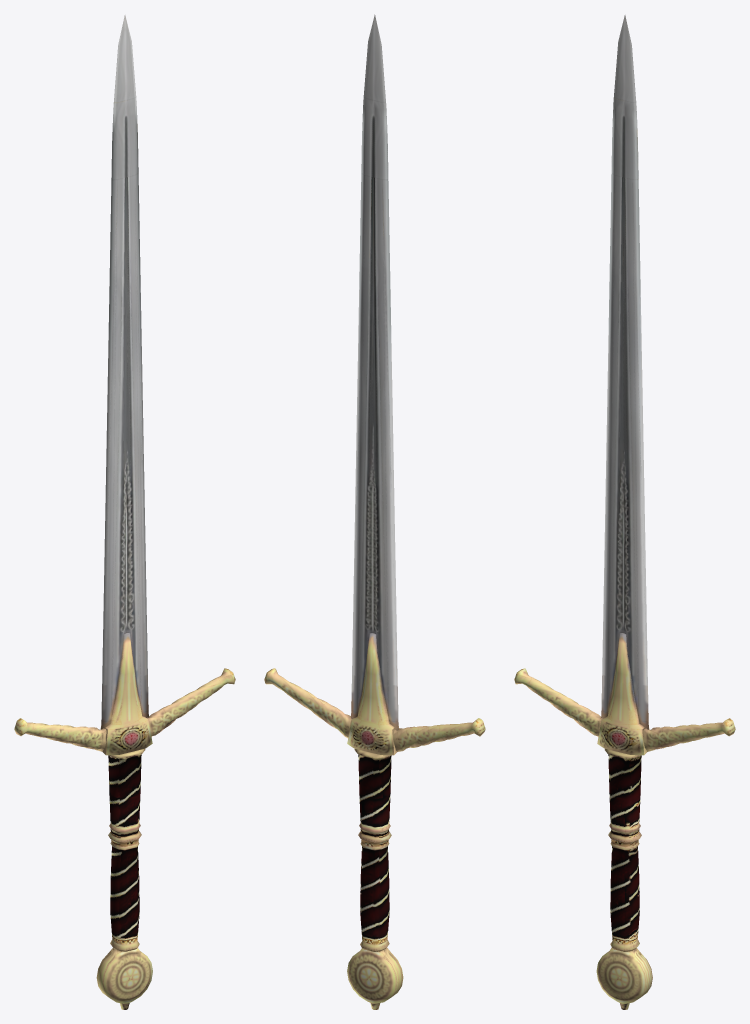
The model's file is w_claymore_t3.glb.
3 renders of one model, left to right at view 1: azimuth 30°, elevation 25°; view 2: azimuth 150°, elevation 25°; view 3: azimuth 330°, elevation 25°, orthographic.
Parts seen in each view (by area): view 1: Claymore:0; view 2: Claymore:0; view 3: Claymore:0.
Boxes of the visible parts, left/top/right/bottom form: Claymore:0: left=14, top=15, right=235, bottom=1009; Claymore:0: left=264, top=14, right=485, bottom=1009; Claymore:0: left=514, top=15, right=735, bottom=1009.
Bounding box in the file's own units: 21.98 × 96.26 × 2.81.
Materials: 1 (1 with a texture image).
